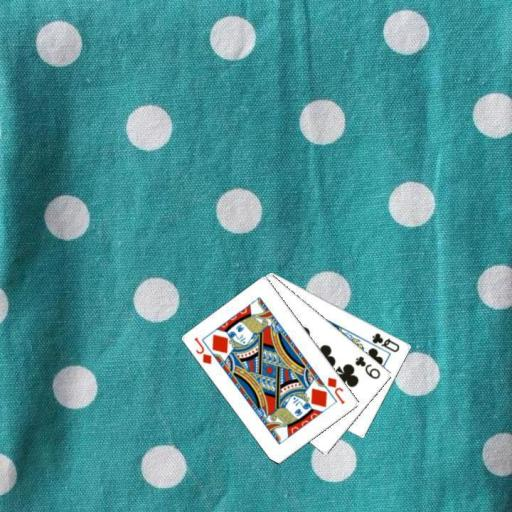card-corner: (352, 353, 383, 380), (190, 334, 214, 366), (369, 330, 401, 353), (324, 374, 347, 405)
